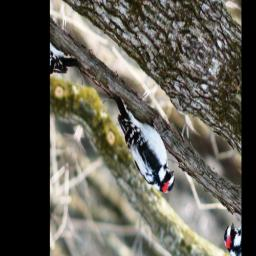Woodpecker: (95, 85, 187, 204)
